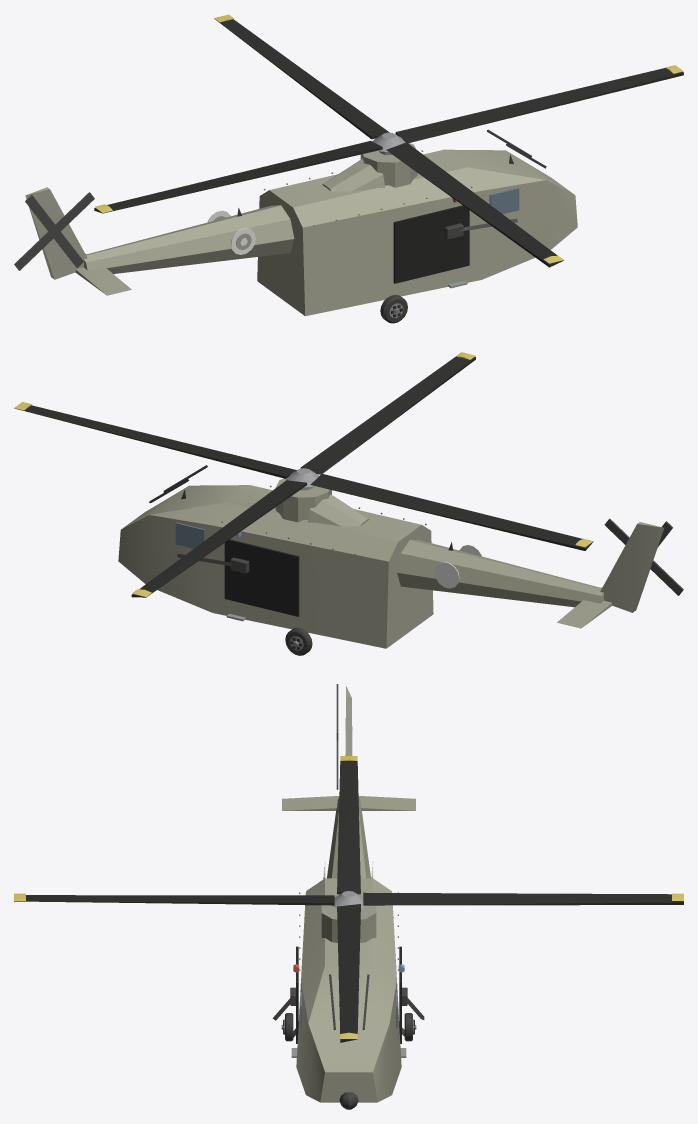
File: gunship.glb
3 views of the same model, one above another, from view 1: azimuth 30°, elevation 25°; view 2: azimuth 150°, elevation 25°; view 3: azimuth 270°, elevation 25° (orthographic).
Visible parts, largest first — view 1: hull, turret; view 2: hull, turret; view 3: hull, turret.
Part boxes in pixels (x1,y1,x2,y2): hull: (14,129,577,323); turret: (94,14,683,267); hull: (118,465,683,655); turret: (14,352,593,597); hull: (272,684,424,1109); turret: (14,756,683,1042).
Size of the model in its own units: 16.16 by 4.41 by 14.
